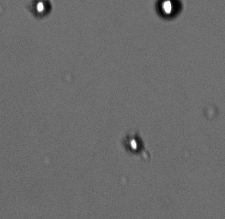Living Cell: (155, 1, 183, 20), (124, 133, 144, 155), (30, 1, 52, 18)
